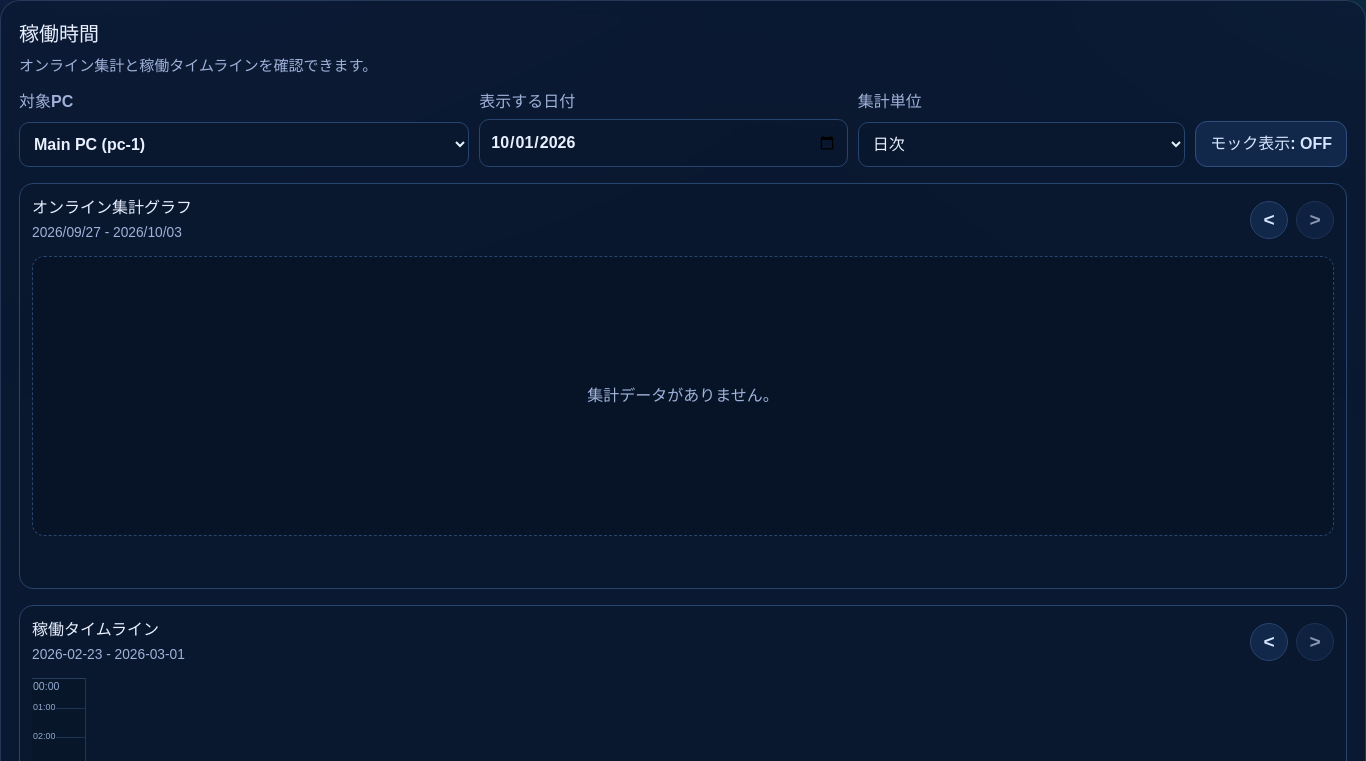
UptimePanel › changes week and shows API error when fetch fails
The image size is (1366, 761).
Click the button named "オンライン集計を前へ" at (1269, 220), box [1250, 201, 1288, 239]
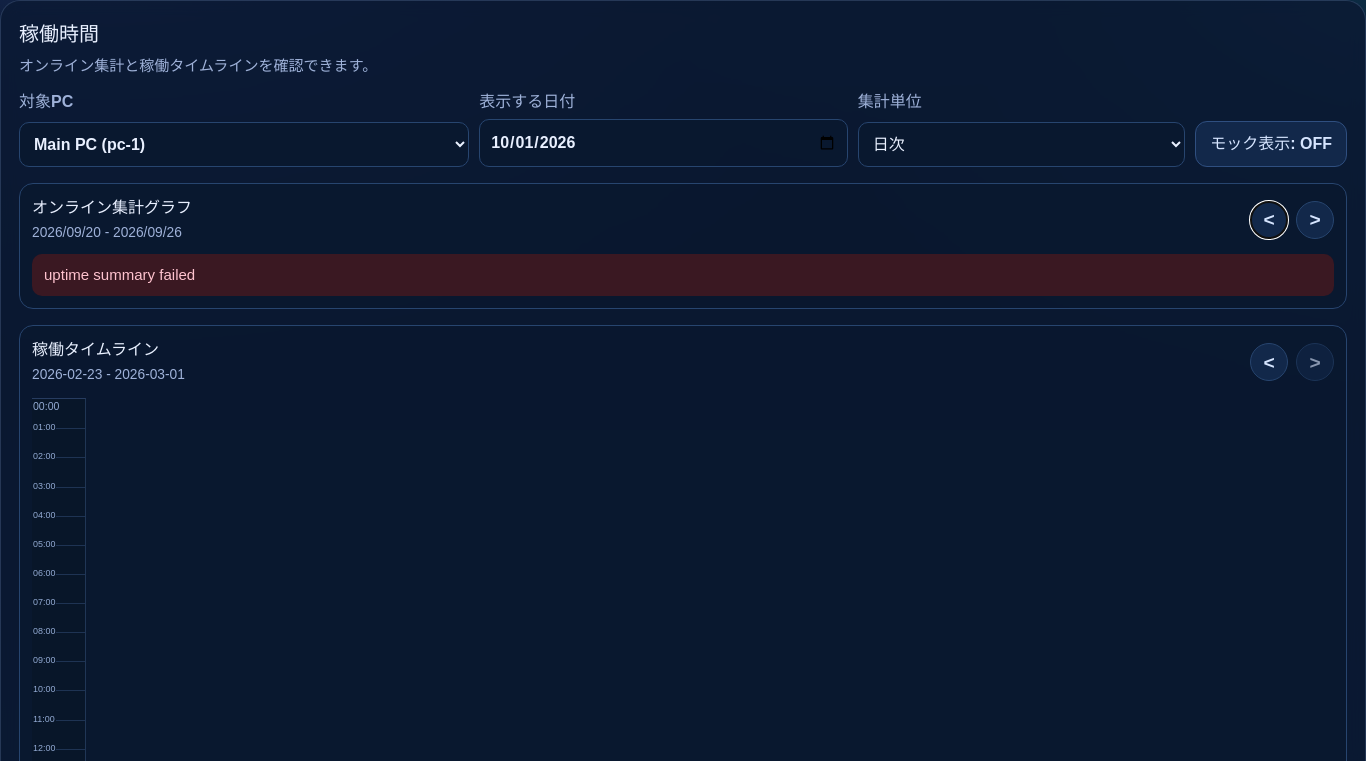
Expected: the text "uptime summary failed" is shown, [32, 254, 1334, 296]
